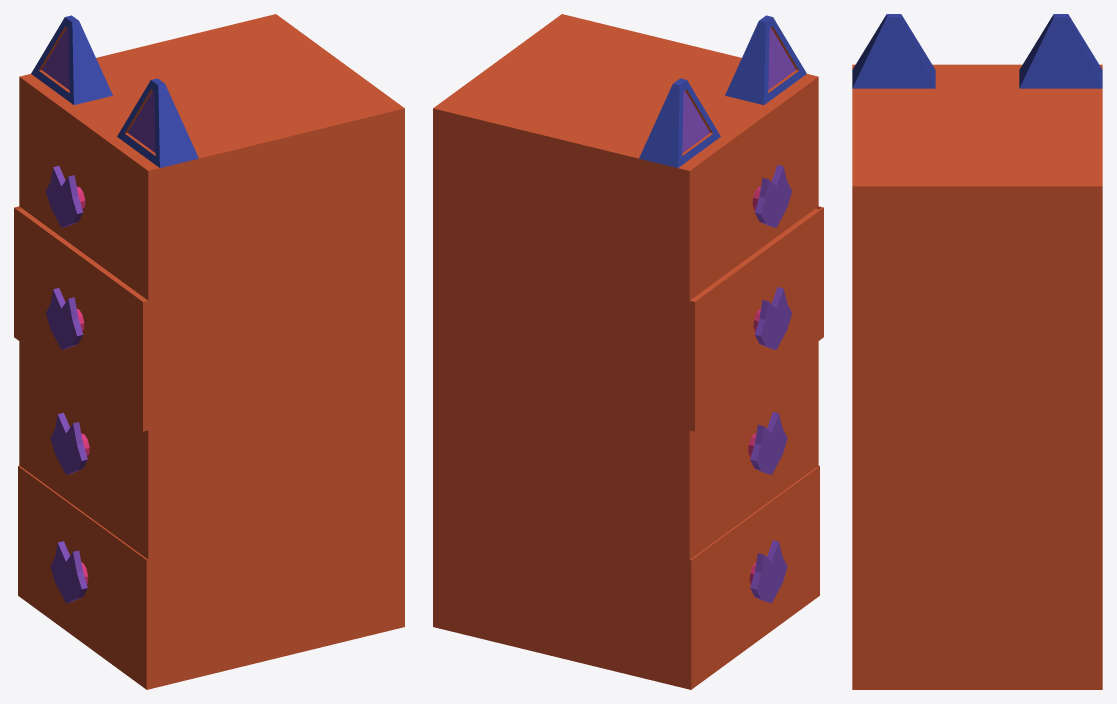
Rendered from Archivador-WarRoom.glb.
The picture shows the model from 3 angles, left to right: view 1: azimuth 30°, elevation 25°; view 2: azimuth 150°, elevation 25°; view 3: azimuth 270°, elevation 25°; orthographic projection. The views are drawn at different scales.
Parts seen in each view (by area): view 1: Archivador; view 2: Archivador; view 3: Archivador.
Part boxes in pixels (x1=…): Archivador: x1=14, y1=14, x2=404, y2=689; Archivador: x1=433, y1=14, x2=823, y2=689; Archivador: x1=852, y1=14, x2=1102, y2=689.
Size of the model in its own units: 0.6436 by 1.29 by 0.5148.
1 material, 1 textured.
